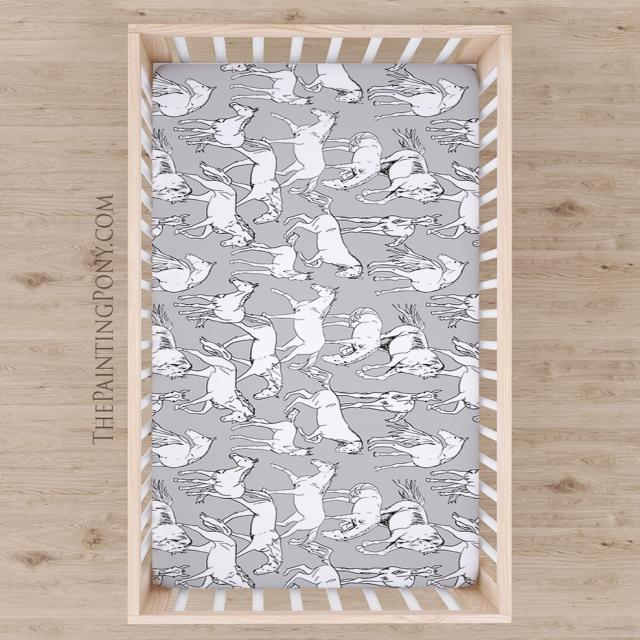crib: (125, 22, 514, 624)
